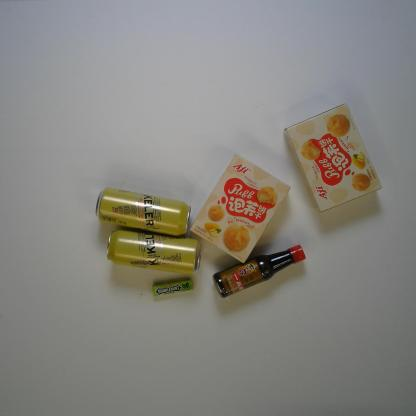Alcohol: (92, 187, 195, 240), (104, 226, 202, 276)
Dessert: (186, 150, 294, 266), (281, 99, 384, 216)
Gum: (150, 276, 196, 300)
Seasoner: (210, 245, 308, 300)
